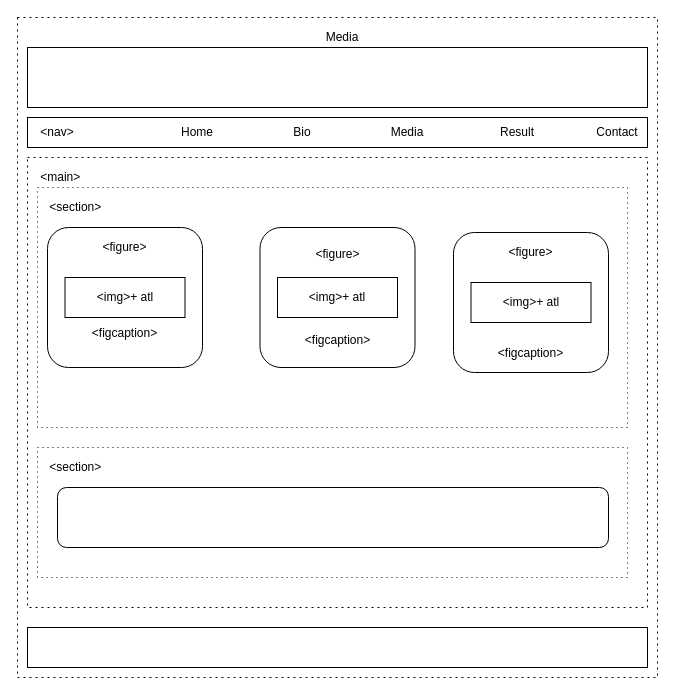
Image size: 675x695. Some labels were removed from this diagram. The shapes that lost their labels are listed below. From the top down, each one's box as (x1, y1, x2, y2) in pixels, then its label:
(26, 46, 648, 108): <head> mySite
(56, 486, 608, 548): <video> Embedded video clip
(26, 626, 648, 668): <footer> copy right and contact
